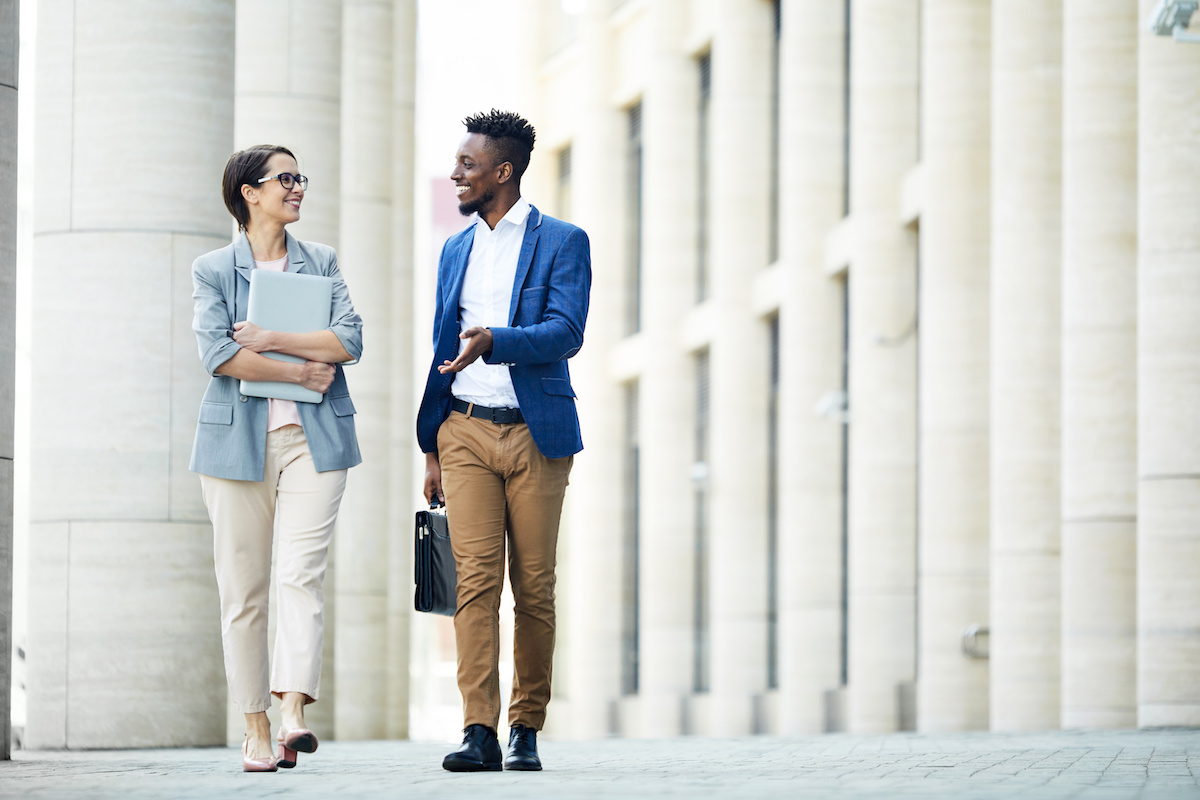Bad: (190, 105, 591, 771)
